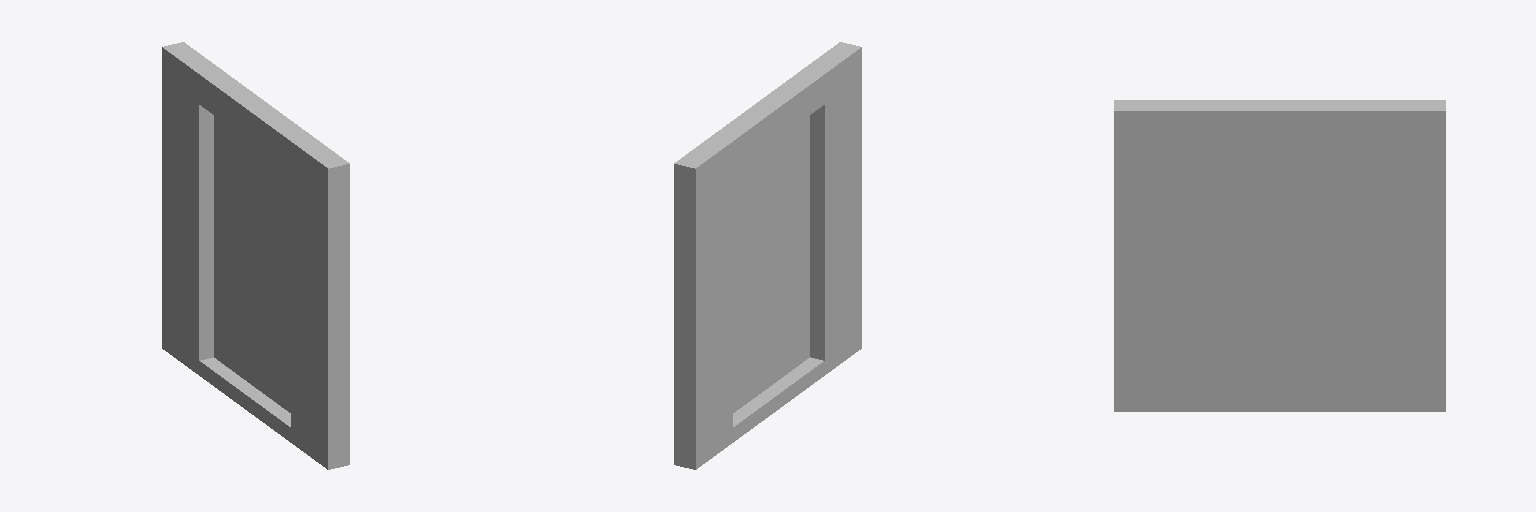
File: portal.obj
The picture shows the model from 3 angles: view 1: azimuth 30°, elevation 25°; view 2: azimuth 150°, elevation 25°; view 3: azimuth 270°, elevation 25°; orthographic projection.
Visible parts, largest first — view 1: object 1; view 2: object 1; view 3: object 1.
Boxes of the visible parts, box(x1,y1,x2,y2) form: object 1: box(162, 42, 349, 469); object 1: box(674, 42, 861, 469); object 1: box(1114, 100, 1445, 411).
Size of the model in its own units: 0.3 by 4 by 4.